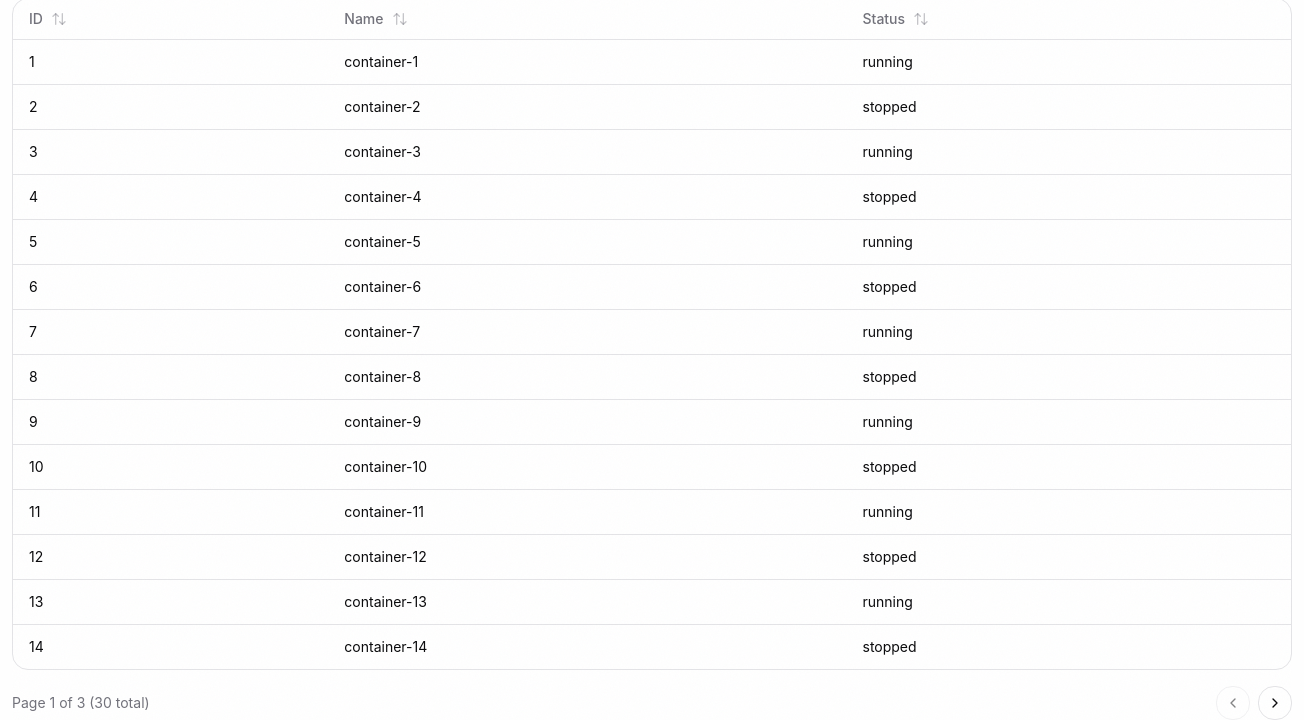
it: DataTable › autoFit mode › paginates to the next page of rows
(page scrolled)
Click the button named "Next page". click: {"x": 1275, "y": 702}
box: [1258,686,1292,719]
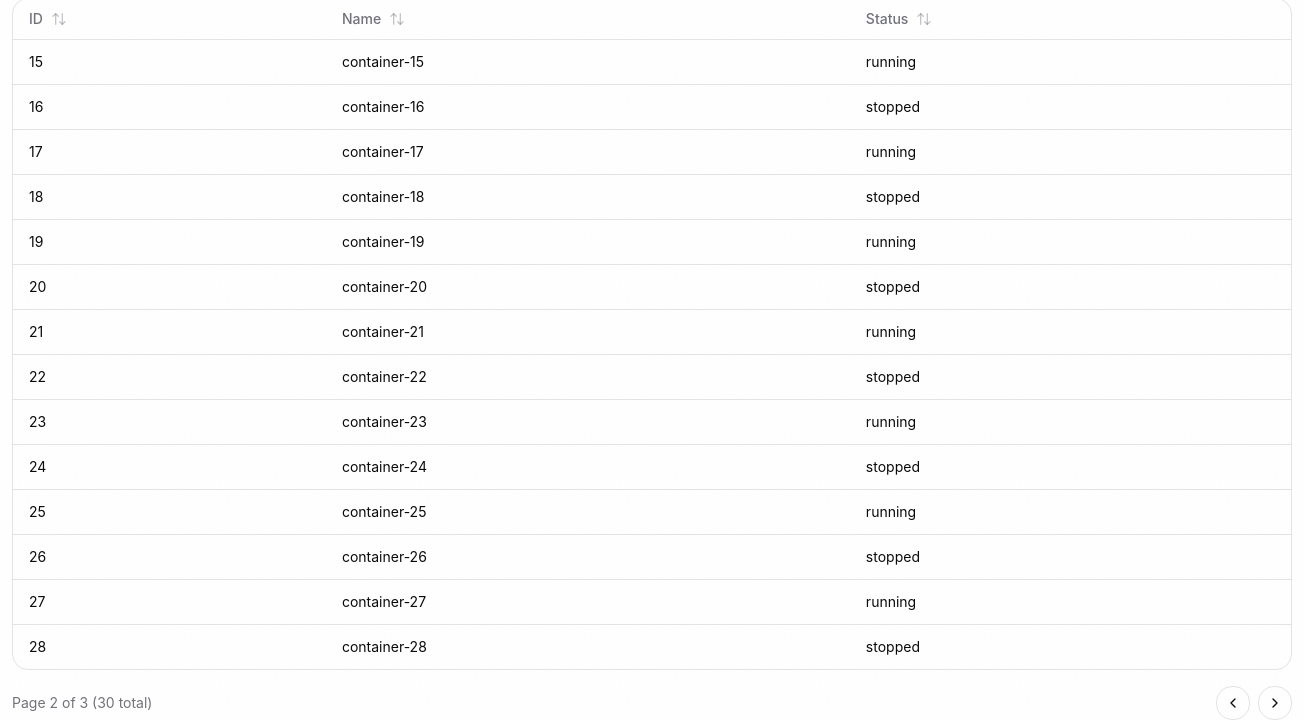
Expected: the text "container-15" is shown, [326,39,850,84]
Expected: the text "container-14" is gone
Expected: the text "Page 2 of 3 (30 total)" is shown, [12,692,152,712]
